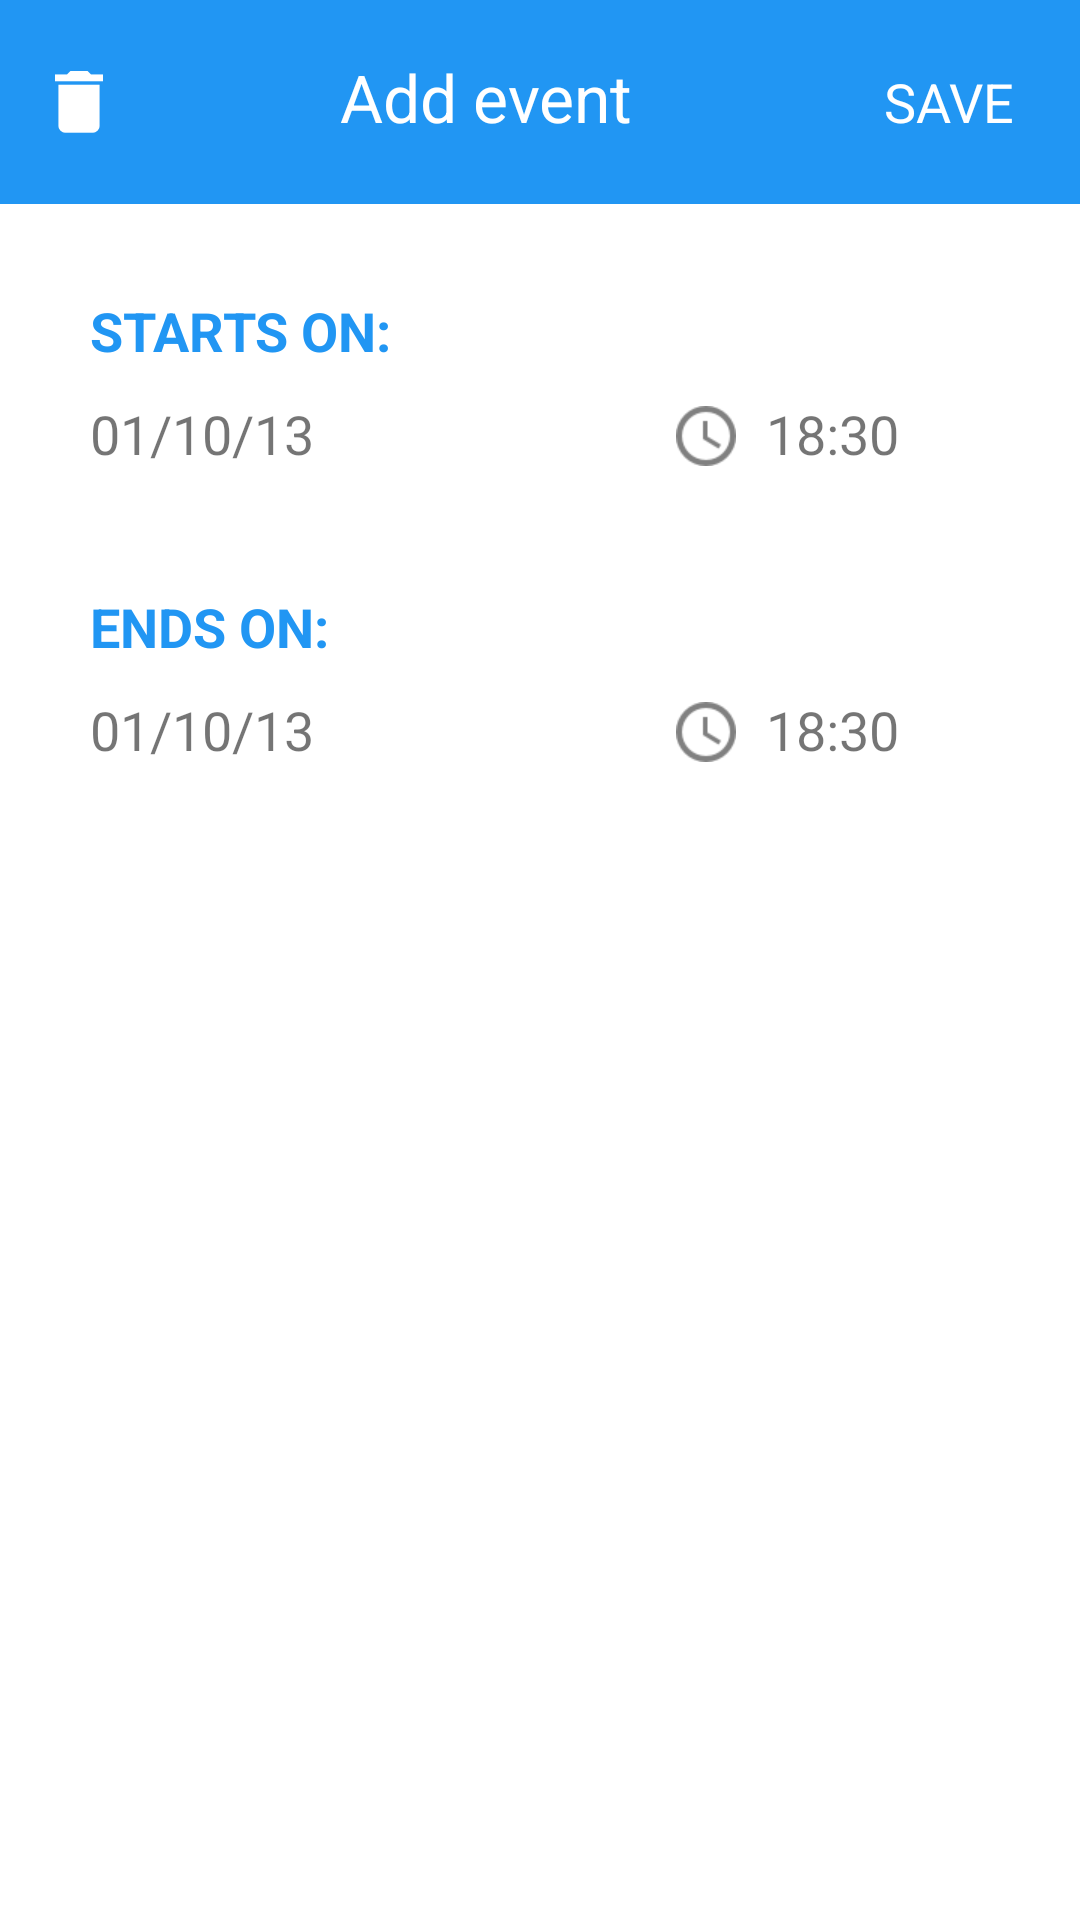

Icons on this 1080×1920 Android screen, each with its box as {"left": x1, "top": y1, "right": x2, "bottom": y2}:
clock: {"left": 676, "top": 406, "right": 736, "bottom": 466}, {"left": 676, "top": 702, "right": 736, "bottom": 762}
delete: {"left": 55, "top": 71, "right": 103, "bottom": 133}
